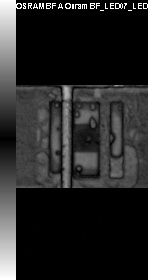led: (49, 102, 122, 176)
